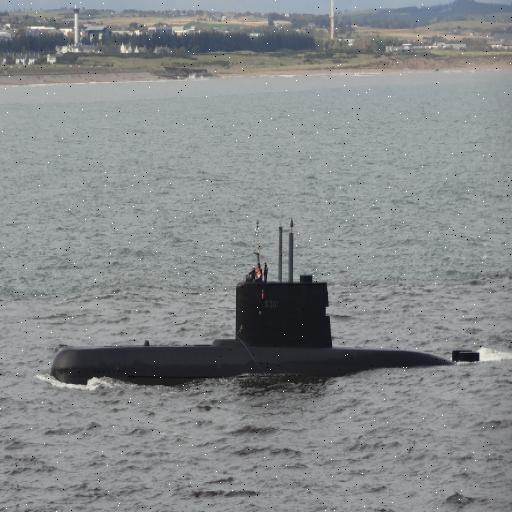submarine: (51, 279, 485, 386)
